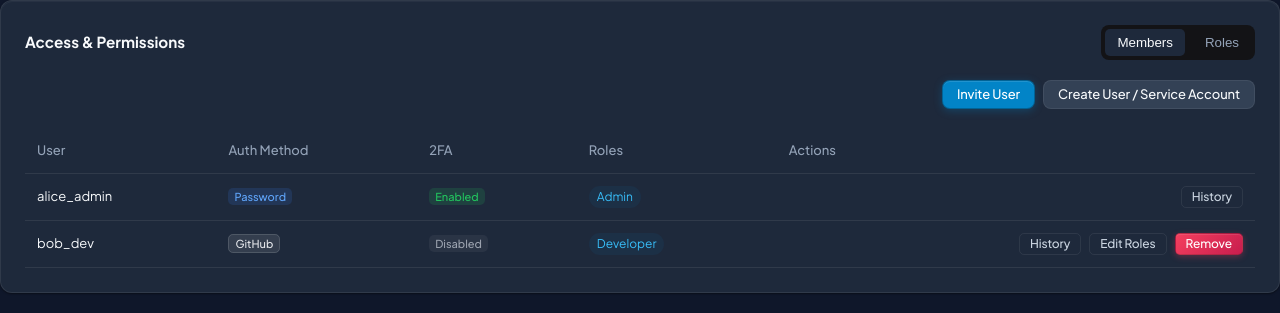
Scenario: MembersRolesTab Component › can switch between Members and Roles sub-views
Expected: the text "alice_admin" is shown, [25,173,216,220]
# Switch to Roles tab
Click the button "Roles" at (1222, 42), box [1193,29,1251,56]
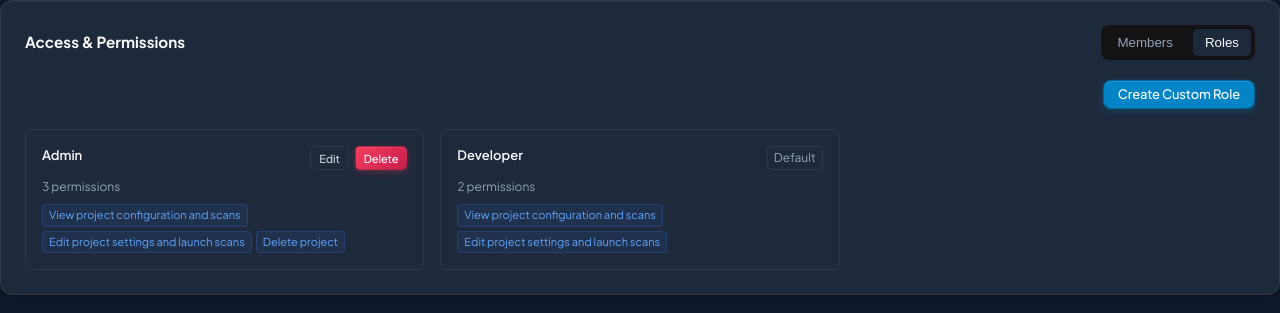
Expected: the heading "Admin" is shown, [42,146,82,170]
Now the button "Create Custom Role" is shown, box [1103,80,1255,109]
